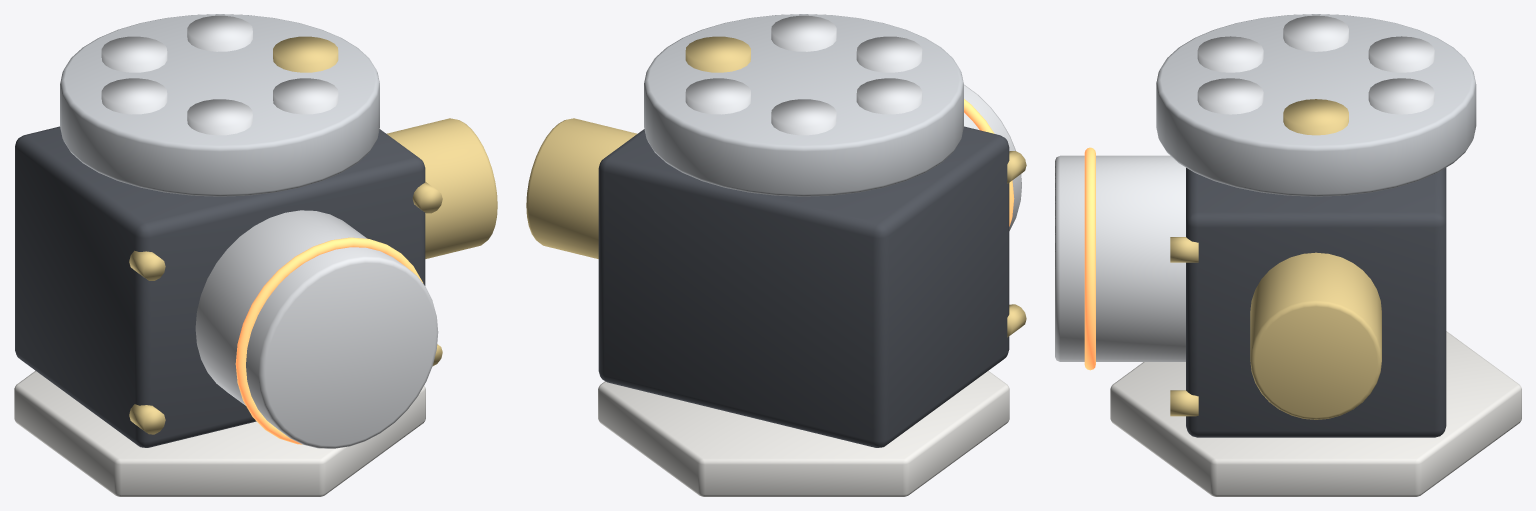
File: verge-monochromator.glb
3 views of the same model, side by side, from view 1: azimuth 30°, elevation 25°; view 2: azimuth 150°, elevation 25°; view 3: azimuth 270°, elevation 25° (orthographic).
Visible parts, largest first — view 1: part_01_chassis, part_02_capsule_guard, part_03_transducer_core, part_05_bayonet_mount, part_04_rotary_gain; view 2: part_01_chassis, part_02_capsule_guard, part_05_bayonet_mount, part_04_rotary_gain, part_03_transducer_core; view 3: part_02_capsule_guard, part_01_chassis, part_05_bayonet_mount, part_03_transducer_core, part_04_rotary_gain.
Part boxes in pixels (x1,y1,x2,y2): part_01_chassis: (15,126,442,447); part_02_capsule_guard: (60,14,379,196); part_03_transducer_core: (195,210,438,448); part_05_bayonet_mount: (14,371,425,496); part_04_rotary_gain: (386,118,497,258); part_01_chassis: (598,126,1026,447); part_02_capsule_guard: (644,14,963,196); part_05_bayonet_mount: (598,371,1009,496); part_04_rotary_gain: (526,118,637,258); part_03_transducer_core: (964,84,1021,230); part_02_capsule_guard: (1156,14,1476,196); part_01_chassis: (1170,168,1446,437); part_05_bayonet_mount: (1110,331,1521,496); part_03_transducer_core: (1055,147,1185,370); part_04_rotary_gain: (1250,252,1381,419).
Size of the model in its own units: 1.97 by 1.65 by 1.98.
